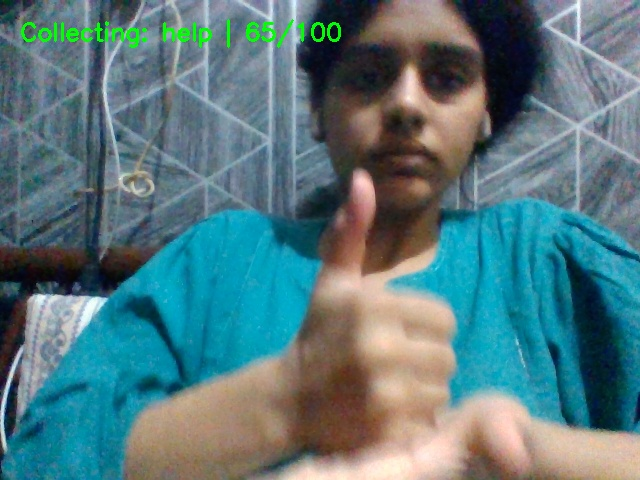help: (258, 165, 567, 479)
